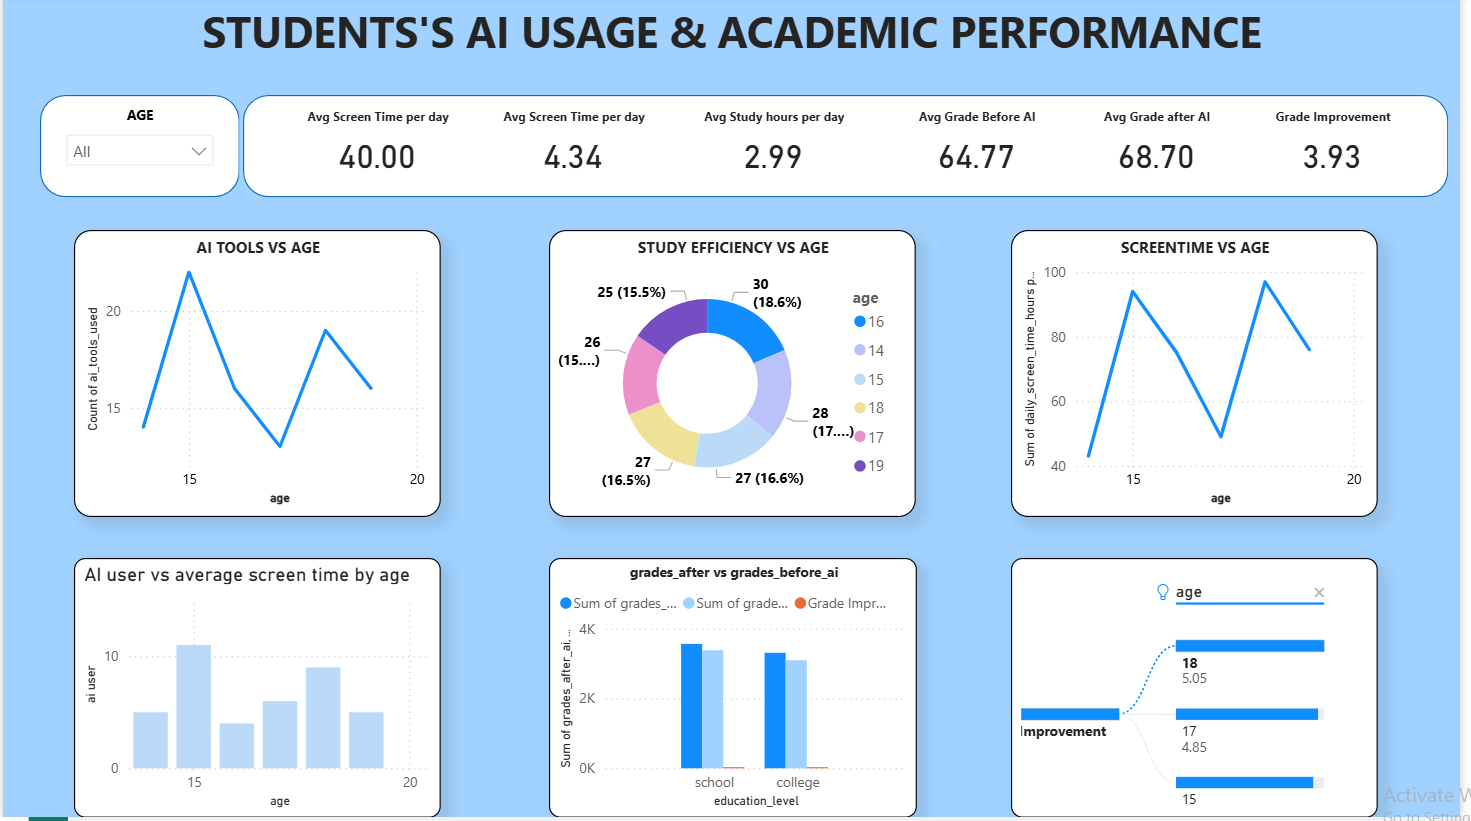

The dashboard page shown, as its layout file describes it:
{"tool":"powerbi","page":{"name":"Page 1","canvas":[1280,720],"ordinal":0},"visuals":[{"type":"shape","box":[32.3,85.7,175.4,89.7],"z":0},{"type":"shape","box":[210.6,85.7,1058.3,89.7],"z":1000},{"type":"textbox","box":[0,0,1280,78.6],"z":2000},{"type":"slicer","title":"AGE","fields":{"Values":["students_ai_usage.age"]},"box":[45.4,94.7,149.2,71.6],"z":3000},{"type":"lineChart","title":"AI TOOLS VS AGE","fields":{"Category":["students_ai_usage.age"],"Y":["CountNonNull(students_ai_usage.ai_tools_used)"]},"box":[62.7,204.4,321.7,252.1],"z":4000},{"type":"donutChart","title":"STUDY EFFICIENCY VS AGE","fields":{"Category":["students_ai_usage.age"],"Y":["students_ai_usage.Study Efficiency"]},"box":[479.1,204.4,321.7,252.1],"z":5000},{"type":"card","title":"Avg Screen Time per day","fields":{"Values":["students_ai_usage.average screen time"]},"box":[421.3,92.7,158.2,75.6],"z":6000},{"type":"card","title":"Avg Study hours per day","fields":{"Values":["students_ai_usage.AVG stud hours"]},"box":[596.7,92.7,158.2,75.6],"z":7000},{"type":"card","title":"Grade Improvement","fields":{"Values":["students_ai_usage.Grade Improvement"]},"box":[1087.5,92.7,158.2,75.6],"z":8000},{"type":"card","title":"Avg Grade Before AI","fields":{"Values":["students_ai_usage.avg grade before AI"]},"box":[775.1,92.7,158.2,75.6],"z":9000},{"type":"card","title":"Avg Grade after AI","fields":{"Values":["students_ai_usage.Avg Grade After AI"]},"box":[933.3,92.7,158.2,75.6],"z":10000},{"type":"lineChart","title":"SCREENTIME VS AGE","fields":{"Category":["students_ai_usage.age"],"Y":["Sum(students_ai_usage.daily_screen_time_hours per day)"]},"box":[885.1,204.4,321.7,252.1],"z":11000},{"type":"card","title":"Avg Screen Time per day","fields":{"Values":["students_ai_usage.AI Adoption Rate"]},"box":[248.9,92.7,158.2,75.6],"z":12000},{"type":"columnChart","title":"AI user vs average screen time by age","fields":{"Category":["students_ai_usage.age"],"Y":["students_ai_usage.ai user"]},"box":[62.7,492.5,321.7,227.7],"z":12001},{"type":"clusteredColumnChart","title":"grades_after vs grades_before_ai ","fields":{"Category":["students_ai_usage.education_level"],"Y":["Sum(students_ai_usage.grades_after_ai)","Sum(students_ai_usage.grades_before_ai)","students_ai_usage.Grade Improvement"]},"box":[479.7,492.5,322.9,227.7],"z":12002},{"type":"decompositionTreeVisual","fields":{"Analyze":["students_ai_usage.Grade Improvement"],"ExplainBy":["students_ai_usage.age"]},"box":[885.1,492.5,321.7,227.7],"z":12003}]}

Visuals, with their boxes in screenshot pixels (x1, y1, x2, y2):
shape: [left=48, top=96, right=245, bottom=197]
shape: [left=248, top=96, right=1436, bottom=197]
textbox: [left=11, top=0, right=1449, bottom=88]
"AGE" slicer: [left=62, top=106, right=230, bottom=187]
"AI TOOLS VS AGE" lineChart: [left=82, top=230, right=443, bottom=513]
"STUDY EFFICIENCY VS AGE" donutChart: [left=549, top=230, right=911, bottom=513]
"Avg Screen Time per day" card: [left=485, top=104, right=662, bottom=189]
"Avg Study hours per day" card: [left=681, top=104, right=859, bottom=189]
"Grade Improvement" card: [left=1233, top=104, right=1410, bottom=189]
"Avg Grade Before AI" card: [left=882, top=104, right=1059, bottom=189]
"Avg Grade after AI" card: [left=1059, top=104, right=1237, bottom=189]
"SCREENTIME VS AGE" lineChart: [left=1005, top=230, right=1367, bottom=513]
"Avg Screen Time per day" card: [left=291, top=104, right=469, bottom=189]
"AI user vs average screen time by age" columnChart: [left=82, top=553, right=443, bottom=809]
"grades_after vs grades_before_ai " clusteredColumnChart: [left=550, top=553, right=913, bottom=809]
decompositionTreeVisual - students_ai_usage.Grade Improvement x students_ai_usage.age: [left=1005, top=553, right=1367, bottom=809]
